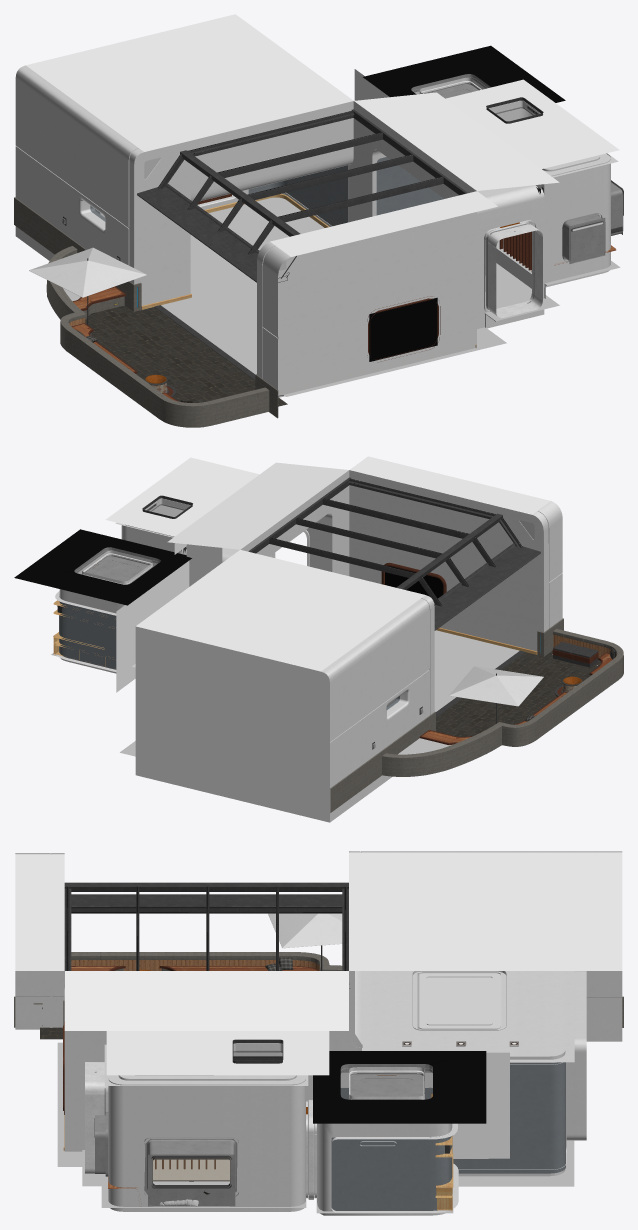
The model's file is 0_home1_building_model_0916.fbx.
3 renders of one model, top to bottom at view 1: azimuth 30°, elevation 25°; view 2: azimuth 150°, elevation 25°; view 3: azimuth 270°, elevation 25°, orthographic. The views are drawn at different scales.
Parts seen in each view (by area): view 1: home_wallpaint_white1, block_sun1, metal_black_01, home_wood_floor1, home_concrete_grey1, home_rock_black1, home_wallpaint_blue1, home_wallpaint_grey1, _home1_aquarium_videoscreen, home_metal_white1, home_wood_brown1, home_wood_lightbrown1 (+1 smaller); view 2: block_sun1, home_wallpaint_white1, metal_black_01, home_concrete_grey1, home_rock_black1, home_wood_floor1, home_wallpaint_blue1, home_wallpaint_grey1, home_wood_brown1, home_metal_white1, home_wood_lightyellow1, _home1_aquarium_videoscreen (+1 smaller); view 3: block_sun1, home_wallpaint_white1, home_wallpaint_blue1, metal_black_01, home_wallpaint_grey1, home_wood_floor1, emission_obj, home_metal_white1, home_concrete_grey1, home_fabric_yellow1, home_wood_yellow1, home_wood_lightbrown1 (+2 smaller).
Part boxes in pixels (left/top/right/bottom): home_wallpaint_white1: left=15, top=65, right=618, bottom=418; block_sun1: left=15, top=14, right=619, bottom=256; metal_black_01: left=63, top=97, right=623, bottom=396; home_wood_floor1: left=144, top=157, right=620, bottom=396; home_concrete_grey1: left=14, top=197, right=278, bottom=427; home_rock_black1: left=85, top=305, right=287, bottom=406; home_wallpaint_blue1: left=90, top=157, right=443, bottom=226; home_wallpaint_grey1: left=62, top=74, right=623, bottom=311; _home1_aquarium_videoscreen: left=369, top=297, right=437, bottom=361; home_metal_white1: left=419, top=77, right=542, bottom=317; home_wood_brown1: left=72, top=194, right=531, bottom=401; home_wood_lightbrown1: left=72, top=245, right=616, bottom=400; block_sun1: left=14, top=456, right=550, bottom=822; home_wallpaint_white1: left=55, top=470, right=562, bottom=822; metal_black_01: left=142, top=477, right=598, bottom=749; home_concrete_grey1: left=329, top=618, right=623, bottom=812; home_rock_black1: left=436, top=651, right=599, bottom=736; home_wood_floor1: left=51, top=520, right=534, bottom=756; home_wallpaint_blue1: left=59, top=601, right=399, bottom=709; home_wallpaint_grey1: left=74, top=504, right=423, bottom=748; home_wood_brown1: left=381, top=562, right=609, bottom=745; home_metal_white1: left=82, top=530, right=309, bottom=584; home_wood_lightyellow1: left=53, top=600, right=537, bottom=666; _home1_aquarium_videoscreen: left=385, top=566, right=443, bottom=598; block_sun1: left=15, top=852, right=622, bottom=1158; home_wallpaint_white1: left=15, top=851, right=622, bottom=1215; home_wallpaint_blue1: left=331, top=1062, right=565, bottom=1210; metal_black_01: left=64, top=882, right=350, bottom=1188; home_wallpaint_grey1: left=95, top=1050, right=432, bottom=1206; home_wood_floor1: left=57, top=1042, right=574, bottom=1213; emission_obj: left=95, top=973, right=501, bottom=1071; home_metal_white1: left=85, top=1062, right=424, bottom=1199; home_concrete_grey1: left=14, top=952, right=623, bottom=1027; home_fabric_yellow1: left=153, top=1157, right=229, bottom=1180; home_wood_yellow1: left=71, top=960, right=319, bottom=970; home_wood_lightbrown1: left=71, top=966, right=316, bottom=1189.
Size of the model in its own units: 2556 by 808 by 2265.
